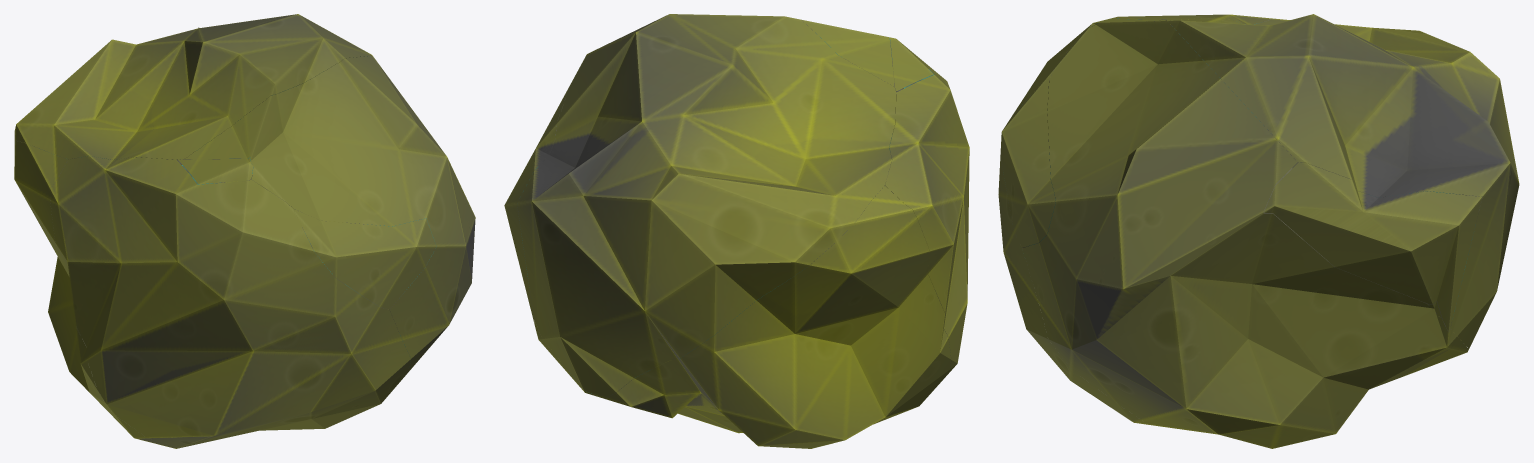
The model's file is goldFract.fbx.
The picture shows the model from 3 angles, left to right: view 1: azimuth 30°, elevation 25°; view 2: azimuth 150°, elevation 25°; view 3: azimuth 270°, elevation 25°; orthographic projection. The views are drawn at different scales.
Parts seen in each view (by area): view 1: GoldAster_cell.005, GoldAster_cell.006, GoldAster_cell.002, GoldAster_cell.001, GoldAster_cell.004, GoldAster_cell; view 2: GoldAster_cell.002, GoldAster_cell.004, GoldAster_cell.005, GoldAster_cell.006, GoldAster_cell.003, GoldAster_cell; view 3: GoldAster_cell.006, GoldAster_cell.002, GoldAster_cell.003, GoldAster_cell.001, GoldAster_cell.005.
Part boxes in pixels (left/top/right/bottom): GoldAster_cell.005: left=50, top=156, right=410, bottom=446; GoldAster_cell.006: left=184, top=55, right=475, bottom=372; GoldAster_cell.002: left=14, top=14, right=372, bottom=159; GoldAster_cell.001: left=294, top=209, right=436, bottom=309; GoldAster_cell.004: left=14, top=141, right=327, bottom=448; GoldAster_cell: left=178, top=157, right=252, bottom=184; GoldAster_cell.002: left=517, top=14, right=896, bottom=398; GoldAster_cell.004: left=605, top=185, right=951, bottom=448; GoldAster_cell.005: left=885, top=51, right=969, bottom=375; GoldAster_cell.006: left=534, top=19, right=894, bottom=398; GoldAster_cell.003: left=504, top=86, right=569, bottom=321; GoldAster_cell: left=889, top=37, right=933, bottom=91; GoldAster_cell.006: left=1022, top=20, right=1468, bottom=448; GoldAster_cell.002: left=1167, top=14, right=1519, bottom=348; GoldAster_cell.003: left=1264, top=162, right=1482, bottom=331; GoldAster_cell.001: left=1000, top=79, right=1055, bottom=247; GoldAster_cell.005: left=998, top=14, right=1273, bottom=424.
Bounding box in the file's own units: 577 × 554 × 656.
Materials: 1 (1 with a texture image).
